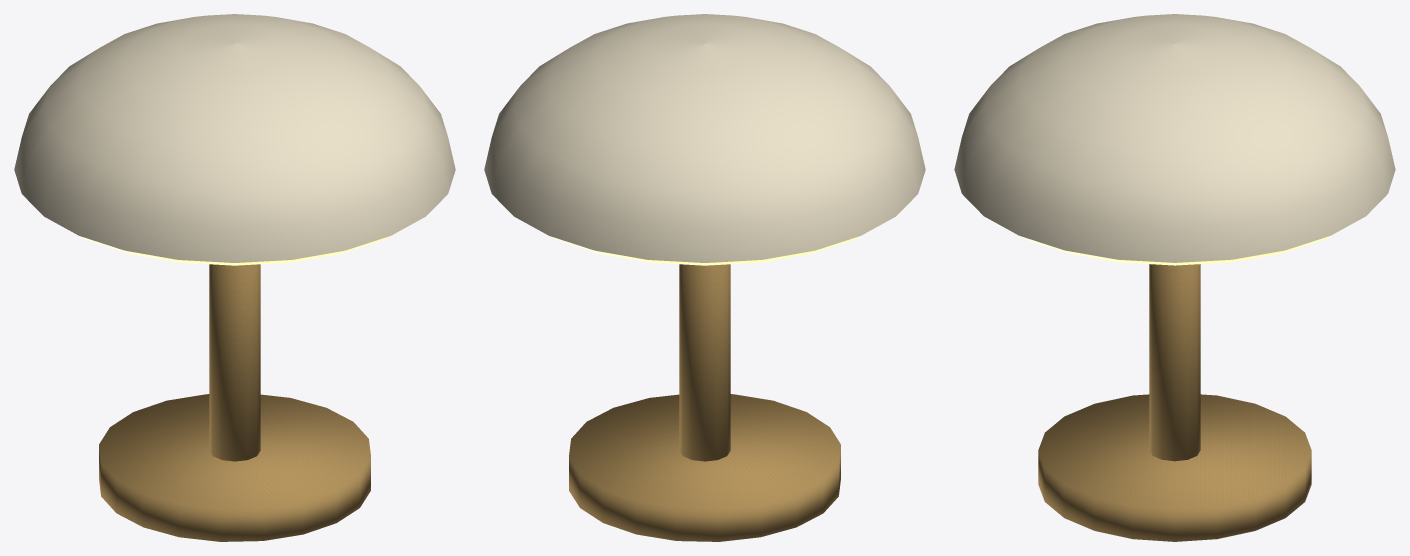
File: mushroom_lamp.glb
The picture shows the model from 3 angles, left to right: view 1: azimuth 30°, elevation 25°; view 2: azimuth 150°, elevation 25°; view 3: azimuth 270°, elevation 25°; orthographic projection.
Parts seen in each view (by area): view 1: Mushroom hemisphere shade, Mushroom lamp foot, Mushroom brass column, Warm luminous underside; view 2: Mushroom hemisphere shade, Mushroom lamp foot, Mushroom brass column, Warm luminous underside; view 3: Mushroom hemisphere shade, Mushroom lamp foot, Mushroom brass column, Warm luminous underside.
Boxes of the visible parts, box(x1,y1,x2,y2) form: Mushroom hemisphere shade: box(14, 14, 455, 262); Mushroom lamp foot: box(99, 394, 370, 541); Mushroom brass column: box(209, 264, 260, 461); Warm luminous underside: box(52, 221, 417, 265); Mushroom hemisphere shade: box(484, 14, 925, 262); Mushroom lamp foot: box(569, 394, 840, 541); Mushroom brass column: box(679, 264, 730, 461); Warm luminous underside: box(522, 221, 887, 265); Mushroom hemisphere shade: box(954, 14, 1395, 262); Mushroom lamp foot: box(1038, 394, 1311, 541); Mushroom brass column: box(1149, 264, 1200, 461); Warm luminous underside: box(993, 221, 1356, 265).
Size of the model in its own units: 0.38 by 0.4185 by 0.38.
3 materials, 1 textured.
